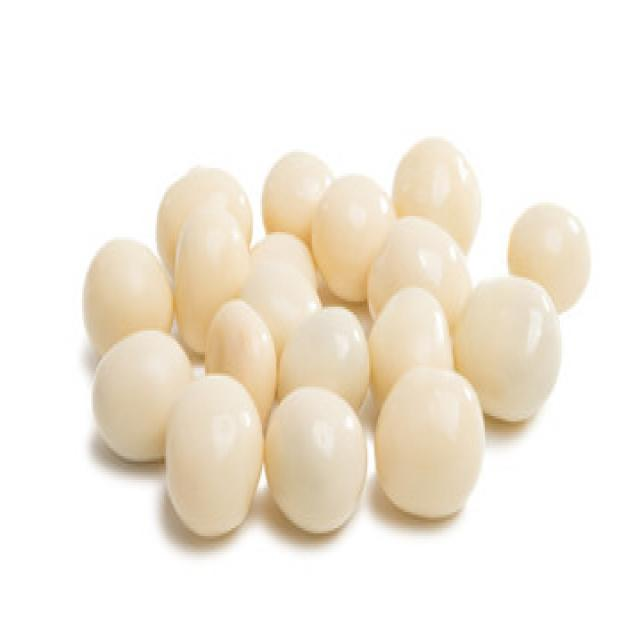Chocolate: (89, 126, 589, 538)
